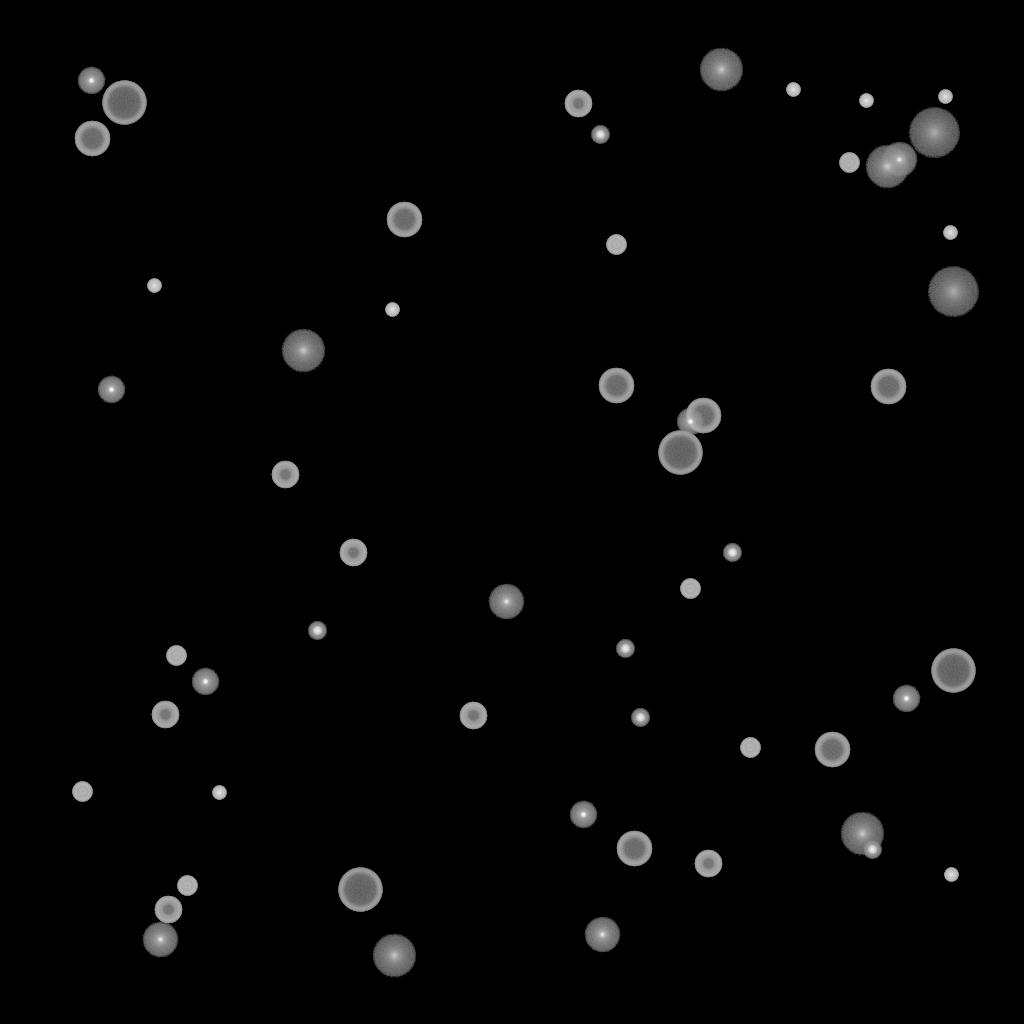depth:-10: (77, 67, 105, 95), (97, 376, 125, 404), (191, 668, 219, 696), (569, 801, 597, 829), (676, 408, 704, 436), (892, 685, 920, 713)
depth:-20: (723, 544, 741, 562), (863, 841, 881, 859), (631, 709, 649, 727), (591, 126, 609, 144), (308, 622, 326, 640), (616, 640, 634, 658)
depth:-30: (944, 868, 958, 882), (212, 786, 226, 800), (385, 303, 399, 317), (786, 83, 800, 97), (943, 226, 957, 240), (859, 94, 873, 108), (147, 279, 161, 293), (938, 90, 952, 104)
depth:-40: (680, 579, 700, 599), (72, 782, 92, 802), (839, 153, 859, 173), (606, 235, 626, 255), (177, 876, 197, 896), (166, 646, 186, 666), (740, 738, 760, 758)
depth:-50: (151, 701, 179, 729), (459, 702, 487, 730), (154, 896, 182, 924), (339, 539, 367, 567), (271, 461, 299, 489), (694, 850, 722, 878), (564, 90, 592, 118)
depth:-60: (386, 202, 422, 238), (870, 369, 906, 405), (616, 831, 652, 867), (74, 121, 110, 157), (814, 732, 850, 768), (685, 398, 721, 434), (598, 368, 634, 404)
depth:-70: (931, 649, 975, 693), (658, 431, 702, 475), (102, 81, 146, 125), (338, 868, 382, 912)
depth:0: (881, 142, 917, 178), (142, 922, 178, 958), (488, 584, 524, 620), (584, 917, 620, 953)
depth:10: (840, 812, 884, 856), (699, 48, 743, 92), (281, 329, 325, 373), (372, 934, 416, 978), (865, 145, 909, 189)
depth:20: (927, 267, 979, 317), (908, 108, 960, 158)
